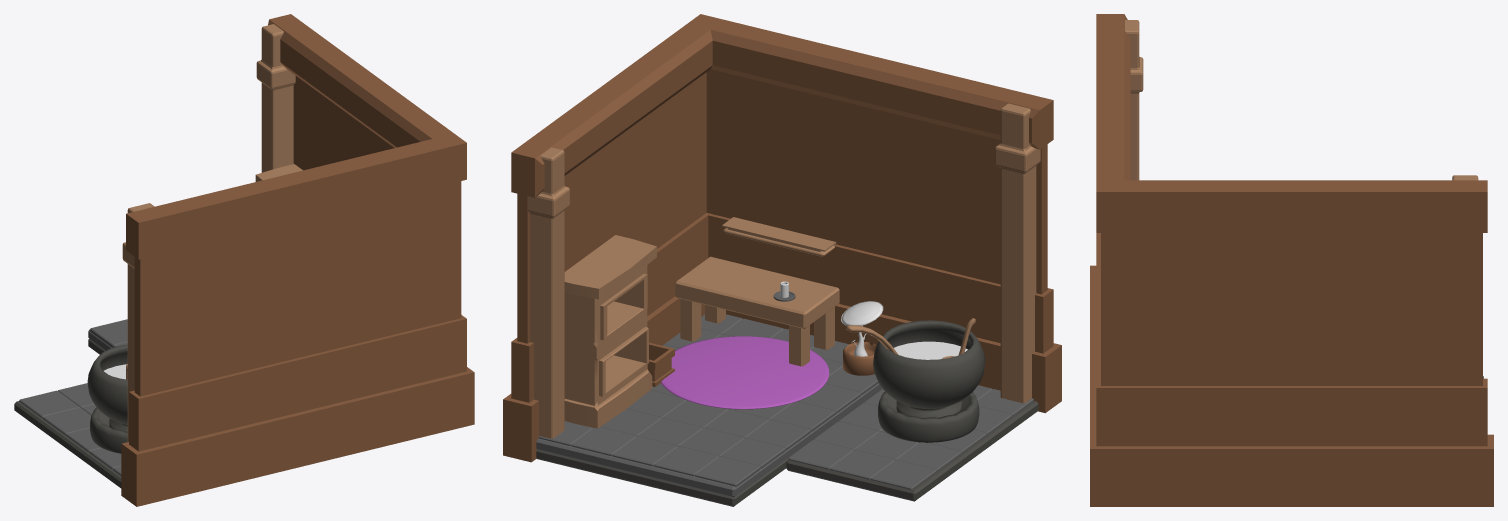
File: Coloured_PotRoom.fbx
3 views of the same model, side by side, from view 1: azimuth 30°, elevation 25°; view 2: azimuth 150°, elevation 25°; view 3: azimuth 270°, elevation 25° (orthographic). The views are drawn at different scales.
Visible parts, largest first — view 1: Pot.001; view 2: Pot.001; view 3: Pot.001.
Part boxes in pixels (x1,y1,x2,y2): Pot.001: (14, 14, 474, 506); Pot.001: (503, 14, 1061, 506); Pot.001: (1090, 14, 1493, 506).
Size of the model in its own units: 1259 by 1003 by 1171.
